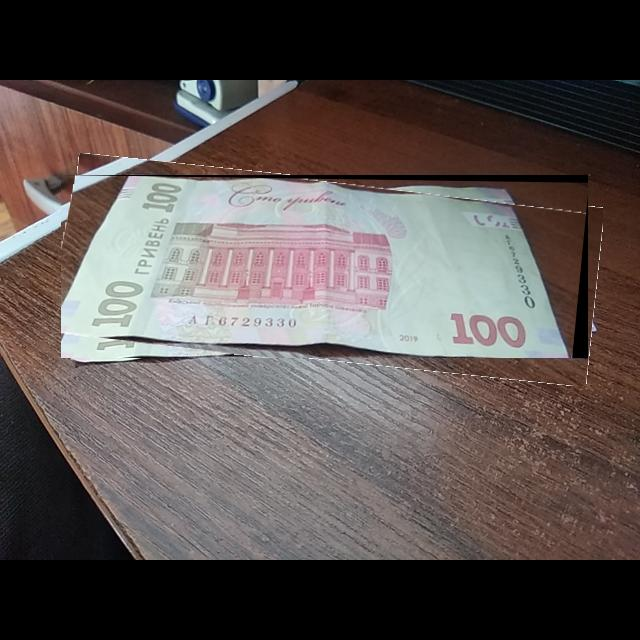100uah: (61, 176, 573, 359)
